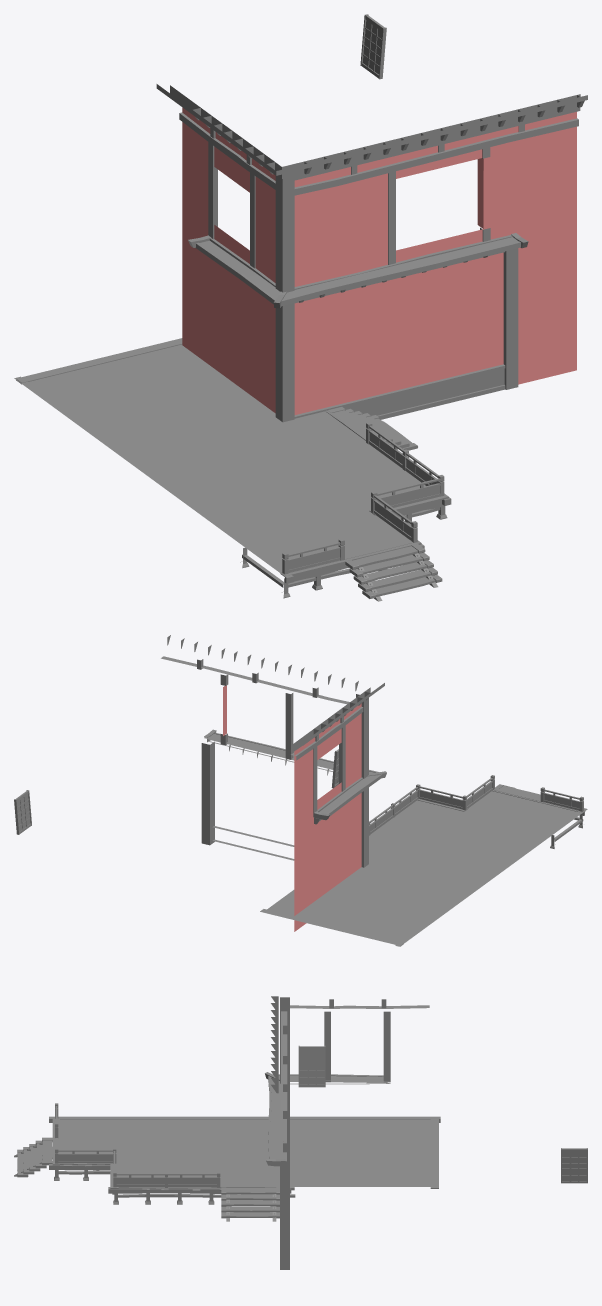
Rendered from S_Envi_Umeda_Building_012a.gltf.
3 renders of one model, top to bottom at view 1: azimuth 30°, elevation 25°; view 2: azimuth 150°, elevation 25°; view 3: azimuth 270°, elevation 25°, orthographic. The views are drawn at different scales.
Parts seen in each view (by area): view 1: S_Envi_Umeda_Building_012a; view 2: S_Envi_Umeda_Building_012a; view 3: S_Envi_Umeda_Building_012a.
Part boxes in pixels (x1,y1,x2,y2): S_Envi_Umeda_Building_012a: [14, 14, 587, 601]; S_Envi_Umeda_Building_012a: [14, 635, 587, 946]; S_Envi_Umeda_Building_012a: [14, 996, 587, 1269].
Size of the model in its own units: 22.52 by 13.38 by 34.17.
